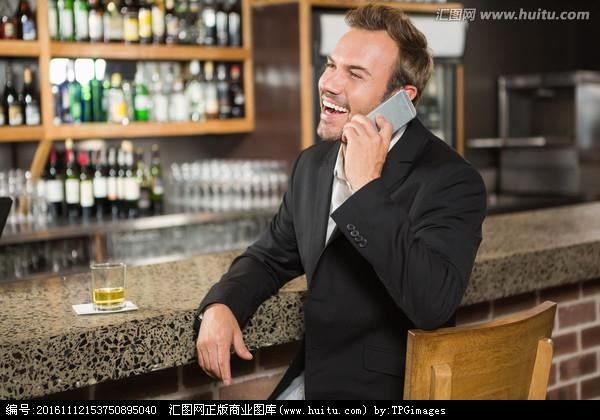calling: (341, 88, 417, 181)
